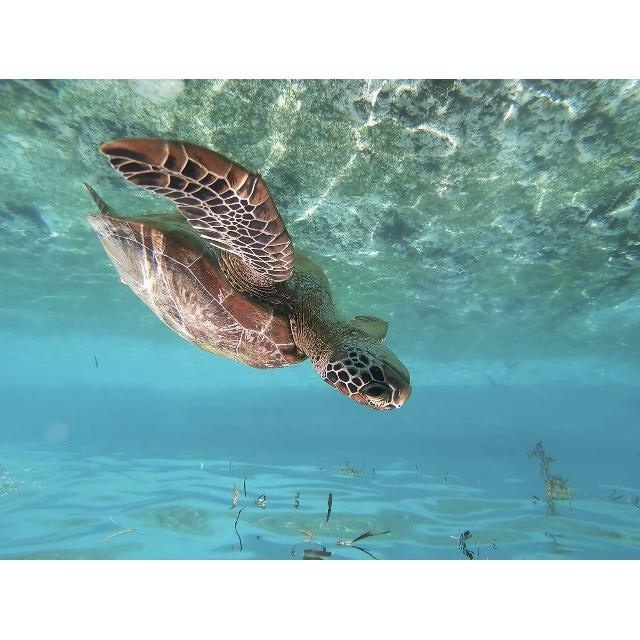penguin: (82, 135, 413, 413)
